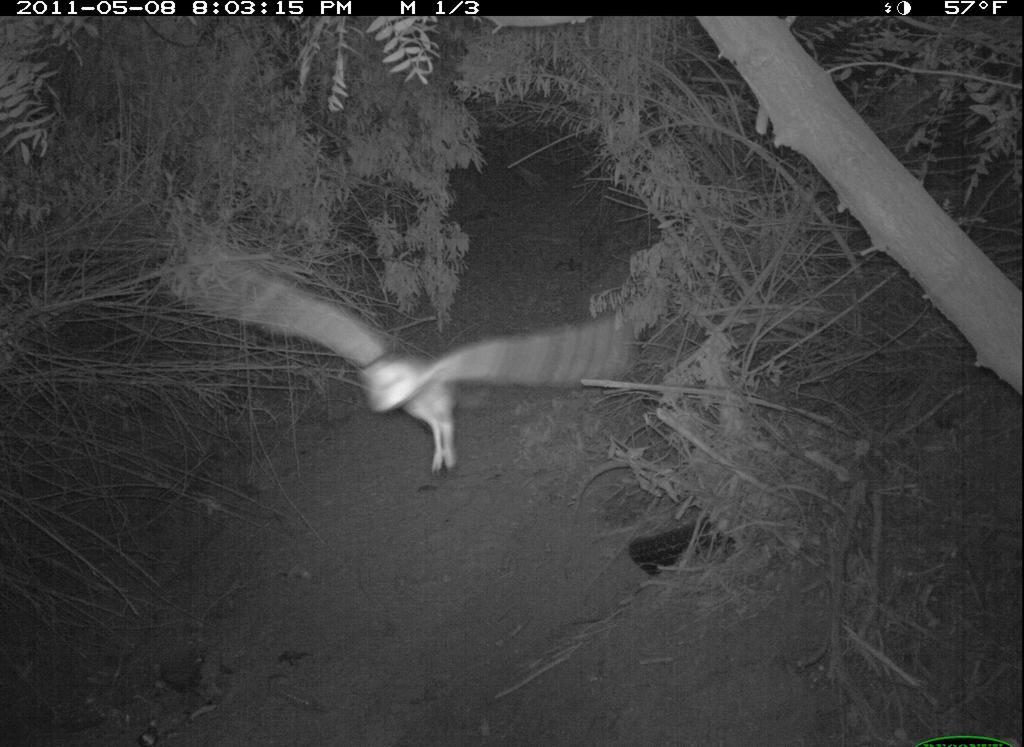bird: (205, 227, 647, 484)
